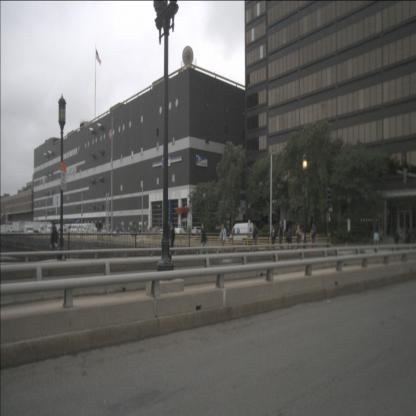human-pedestrian-adult: (49, 220, 59, 271), (199, 222, 209, 260), (169, 222, 175, 255), (310, 222, 317, 250), (286, 225, 293, 251), (252, 223, 258, 252), (278, 221, 284, 250), (221, 224, 226, 256), (296, 224, 302, 250), (394, 230, 401, 252), (271, 224, 276, 251), (374, 228, 378, 252)
vehicle-car: (228, 221, 256, 248), (188, 226, 204, 239)
